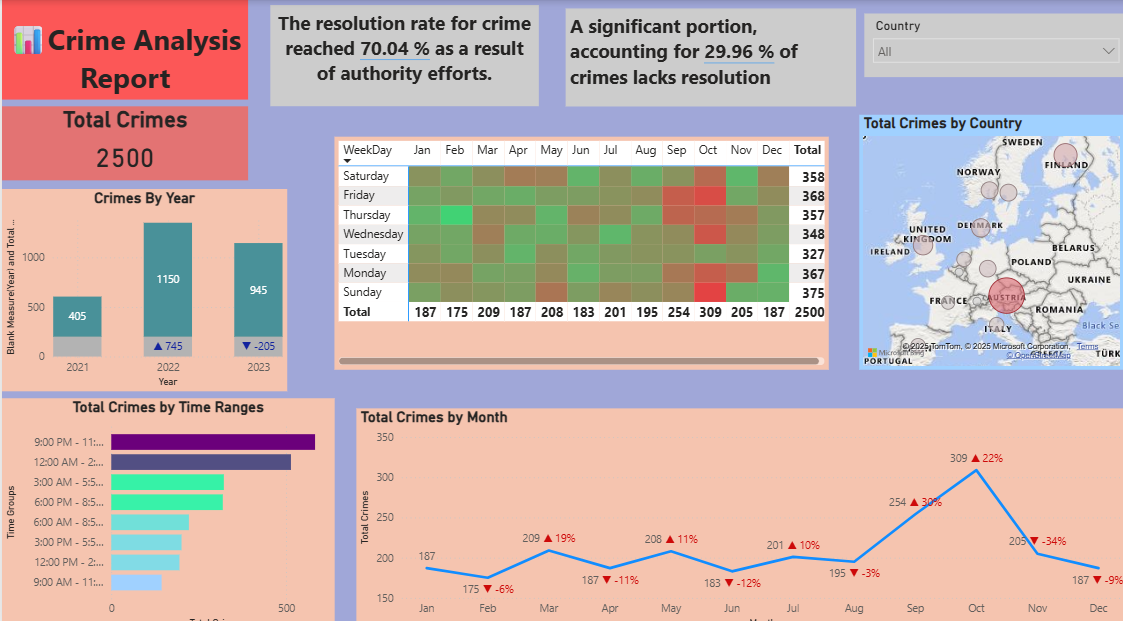

The page's visual inventory and layout, read from the dashboard file:
{"tool":"powerbi","page":{"name":"Crime Summary","canvas":[1280,720],"ordinal":0},"visuals":[{"type":"textbox","box":[0,0,280,113.1],"z":0},{"type":"card","title":"Total Crimes","fields":{"Values":["Calculations.Total Crimes"]},"box":[0,120.8,280,84.4],"z":1000},{"type":"columnChart","title":"Crimes By Year","fields":{"Category":["Date Table.Year"],"Y":["Calculations.Blank Measure(Year)","Calculations.Total Crimes"]},"box":[0,214.8,324.1,230.1],"z":2000},{"type":"barChart","title":"Total Crimes by Time Ranges ","fields":{"Category":["Data.Time Groups"],"Y":["Calculations.Total Crimes"]},"box":[0,452.6,377.8,266.6],"z":3000},{"type":"textbox","box":[304.9,5.8,304.9,115.1],"z":4000},{"type":"lineChart","fields":{"Category":["Date Table.Month"],"Y":["Calculations.Total Crimes"]},"box":[402.7,464.1,876.4,255.1],"z":5000},{"type":"pivotTable","fields":{"Columns":["Date Table.Month"],"Rows":["Date Table.WeekDay"],"Values":["Calculations.Total Crimes"]},"box":[377.8,155.3,561.9,264.7],"z":6000},{"type":"map","fields":{"Category":["Data.Country"],"Size":["Calculations.Total Crimes"]},"box":[973.9,131.3,301.8,290],"z":7000},{"type":"slicer","fields":{"Values":["Data.Country"]},"box":[979.8,15.7,299.8,72.5],"z":8000},{"type":"textbox","box":[640.5,9.6,329.9,111.2],"z":9000}]}

Visuals, with their boxes in screenshot pixels (x1, y1, x2, y2), scaled from the page's 1280x720 canvas onto the 1123x621 screenshot:
textbox: l=0, t=0, r=246, b=98
"Total Crimes" card: l=0, t=104, r=246, b=177
"Crimes By Year" columnChart: l=0, t=185, r=284, b=384
"Total Crimes by Time Ranges " barChart: l=0, t=390, r=331, b=620
textbox: l=268, t=5, r=535, b=104
lineChart - Date Table.Month x Calculations.Total Crimes: l=353, t=400, r=1122, b=620
pivotTable - Date Table.Month x Date Table.WeekDay: l=331, t=134, r=824, b=362
map - Data.Country x Calculations.Total Crimes: l=854, t=113, r=1119, b=363
slicer - Data.Country: l=860, t=14, r=1122, b=76
textbox: l=562, t=8, r=851, b=104
